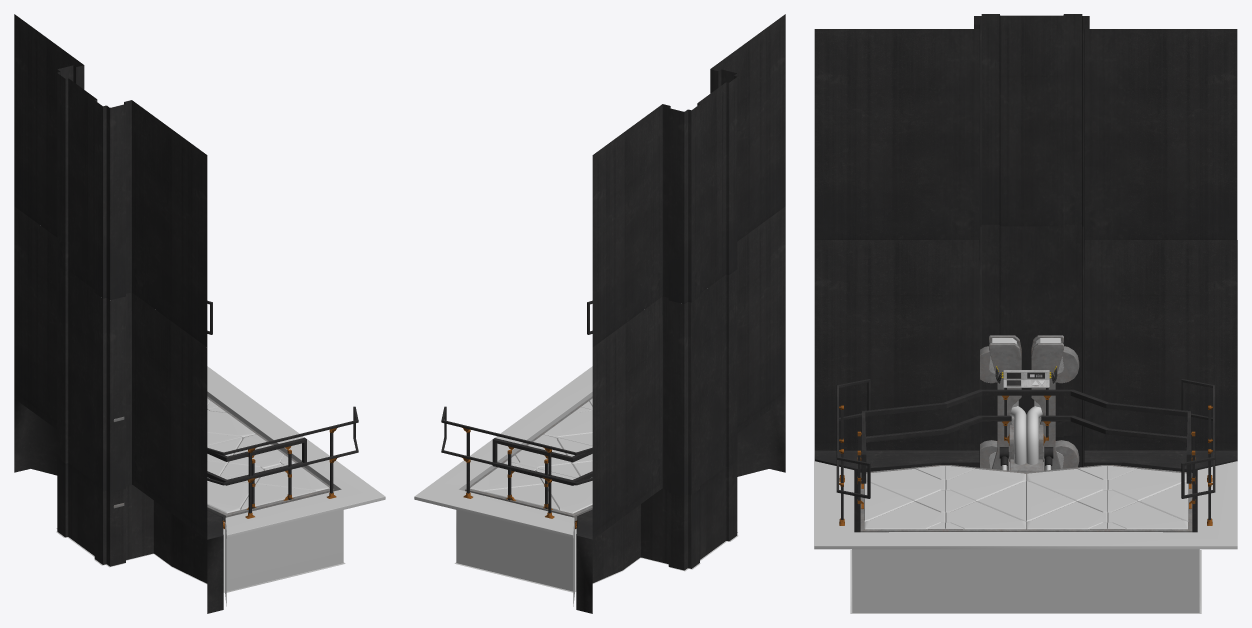
The model's file is ElevatorWide.fbx.
3 renders of one model, left to right at view 1: azimuth 30°, elevation 25°; view 2: azimuth 150°, elevation 25°; view 3: azimuth 270°, elevation 25°, orthographic. The views are drawn at different scales.
Visible parts, largest first — view 1: Wall, Wall array, Floor, Elevator, Floor bottom; view 2: Wall, Wall array, Floor, Elevator, Floor bottom; view 3: Wall array, Wall, Floor, Elevator, Floor bottom.
Boxes of the visible parts, x1=… form: Wall: x1=14, y1=206, x2=223, y2=613; Wall array: x1=14, y1=14, x2=207, y2=346; Floor: x1=207, y1=300, x2=385, y2=606; Elevator: x1=113, y1=396, x2=334, y2=528; Floor bottom: x1=56, y1=522, x2=345, y2=592; Wall: x1=576, y1=206, x2=785, y2=613; Wall array: x1=592, y1=14, x2=785, y2=346; Floor: x1=414, y1=300, x2=592, y2=606; Elevator: x1=465, y1=396, x2=592, y2=528; Floor bottom: x1=454, y1=522, x2=738, y2=592; Wall array: x1=814, y1=14, x2=1237, y2=239; Wall: x1=814, y1=224, x2=1237, y2=532; Floor: x1=814, y1=379, x2=1237, y2=612; Elevator: x1=857, y1=335, x2=1195, y2=532; Floor bottom: x1=850, y1=550, x2=1201, y2=613.
Size of the model in its own units: 346 by 732 by 558.
